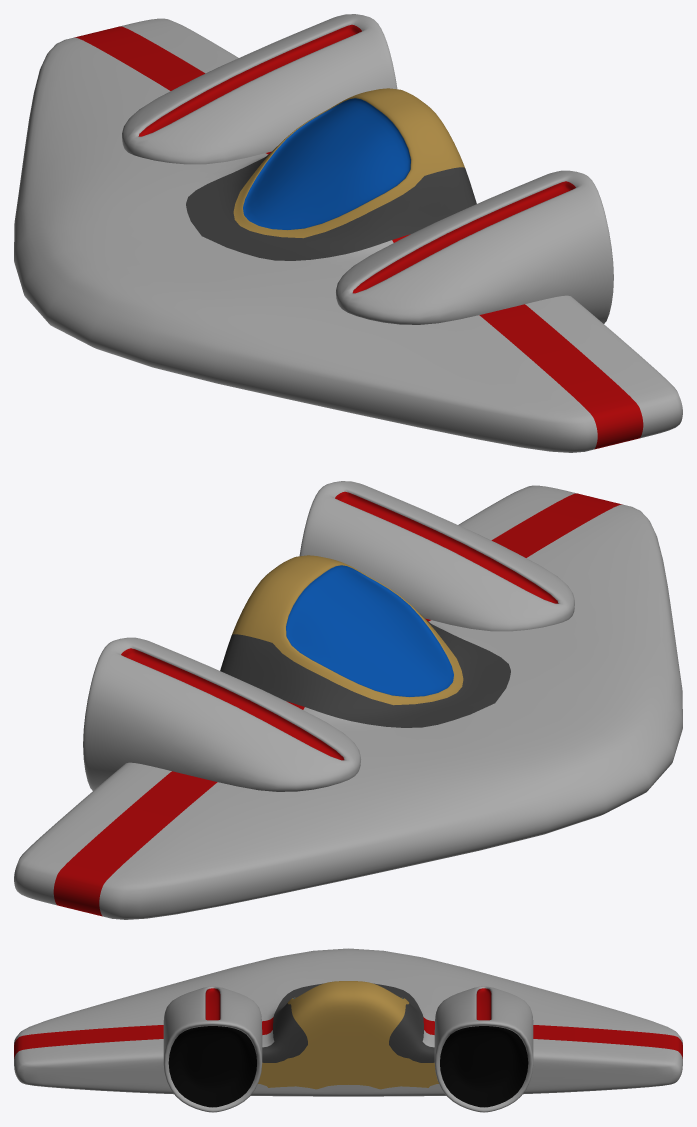
Rendered from nave.obj.
The picture shows the model from 3 angles, top to bottom: view 1: azimuth 30°, elevation 25°; view 2: azimuth 150°, elevation 25°; view 3: azimuth 270°, elevation 25°; orthographic projection. The views are drawn at different scales.
Visible parts, largest first — view 1: Cube_Cube_Base, Cube_Cube_Detalhe2, Cube_Cube_Vidro, Cube_Cube_Detalhe1, Cube_Cube_Base2; view 2: Cube_Cube_Base, Cube_Cube_Detalhe2, Cube_Cube_Vidro, Cube_Cube_Detalhe1, Cube_Cube_Base2; view 3: Cube_Cube_Base, Cube_Cube_Base2, Cube_Cube_Material, Cube_Cube_Detalhe2, Cube_Cube_Detalhe1.
Part boxes in pixels (<box>): Cube_Cube_Base: <box>14,14,682,452</box>; Cube_Cube_Detalhe2: <box>74,24,643,449</box>; Cube_Cube_Vidro: <box>243,98,410,229</box>; Cube_Cube_Detalhe1: <box>186,147,476,260</box>; Cube_Cube_Base2: <box>233,88,464,238</box>; Cube_Cube_Base: <box>14,481,682,919</box>; Cube_Cube_Detalhe2: <box>53,491,622,916</box>; Cube_Cube_Vidro: <box>286,565,453,696</box>; Cube_Cube_Detalhe1: <box>220,614,510,727</box>; Cube_Cube_Base2: <box>232,555,463,705</box>; Cube_Cube_Base: <box>14,948,682,1112</box>; Cube_Cube_Base2: <box>258,981,438,1089</box>; Cube_Cube_Material: <box>168,1026,528,1107</box>; Cube_Cube_Detalhe2: <box>14,988,682,1058</box>; Cube_Cube_Detalhe1: <box>262,983,434,1062</box>.
Bounding box in the file's own units: 4.12 × 1.5 × 8.66.
